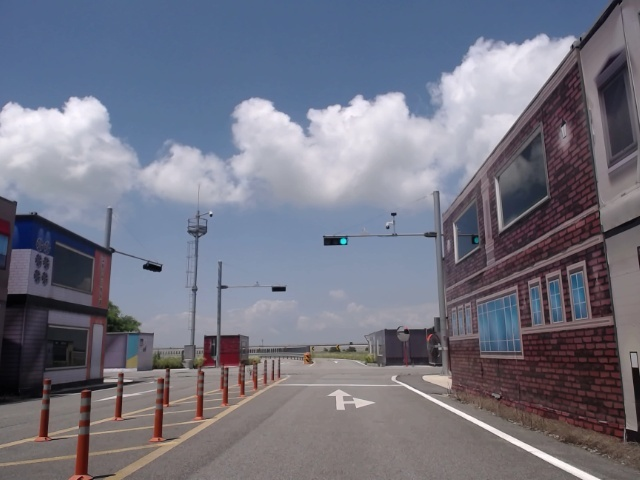green_3: (324, 237, 348, 247)
